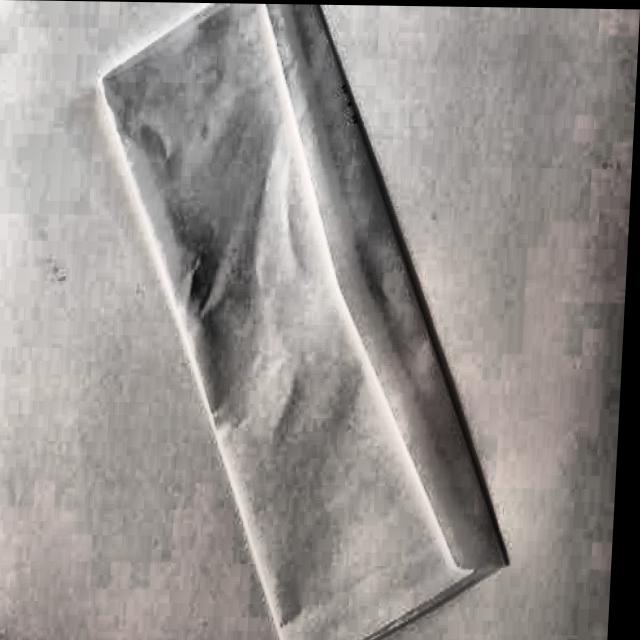paper: (74, 2, 539, 640)
